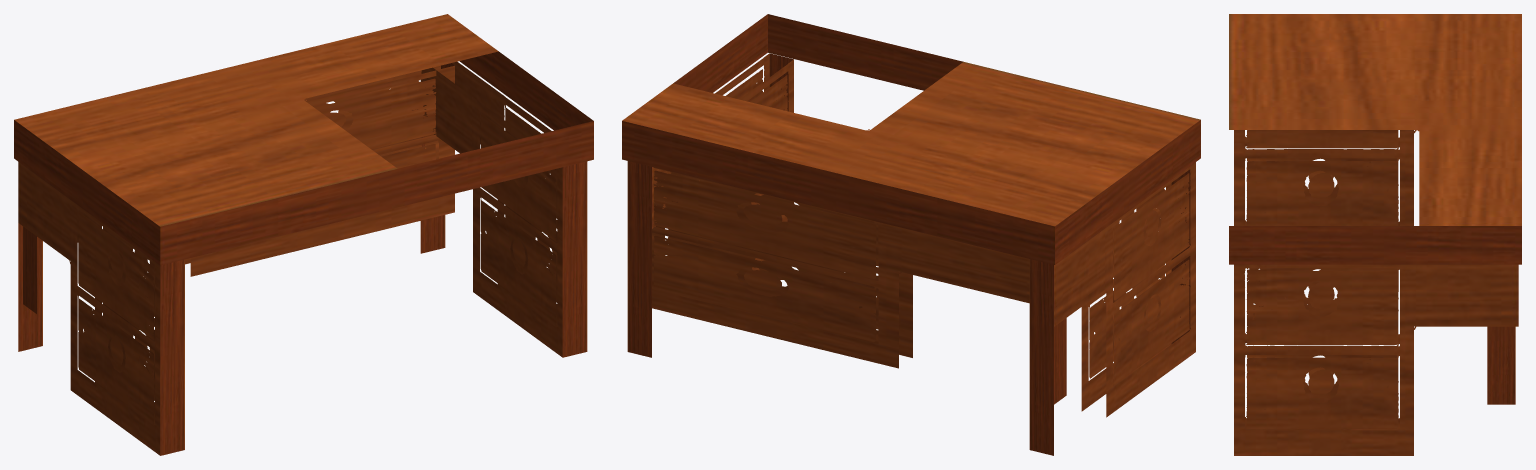
File: desk2.fbx
3 renders of one model, left to right at view 1: azimuth 30°, elevation 25°; view 2: azimuth 150°, elevation 25°; view 3: azimuth 270°, elevation 25°, orthographic.
Visible parts, largest first — view 1: desk2; view 2: desk2; view 3: desk2.
Boxes of the visible parts, left/top/right/bottom form: desk2: left=14, top=14, right=593, bottom=455; desk2: left=622, top=14, right=1200, bottom=455; desk2: left=1229, top=14, right=1521, bottom=455.
Size of the model in its own units: 9.02 by 4.61 by 5.27.
